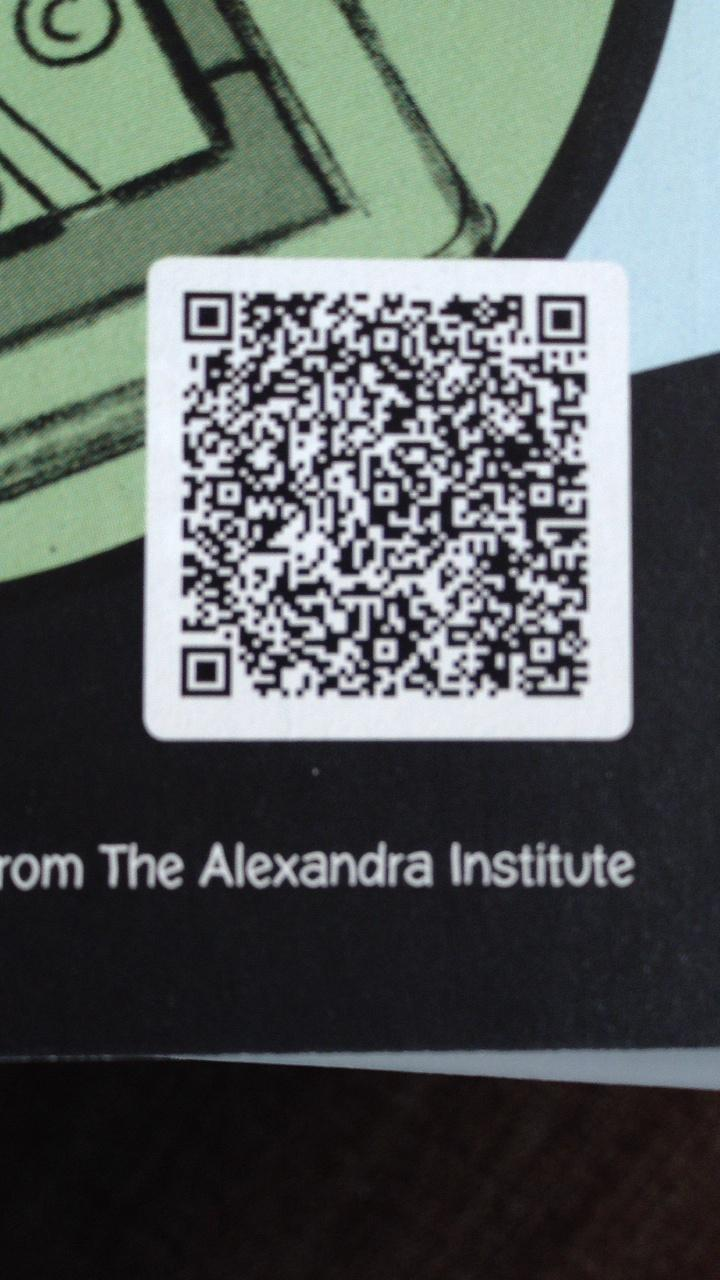Finder pattern: (171, 638, 239, 706), (175, 281, 239, 348), (528, 288, 592, 351)
